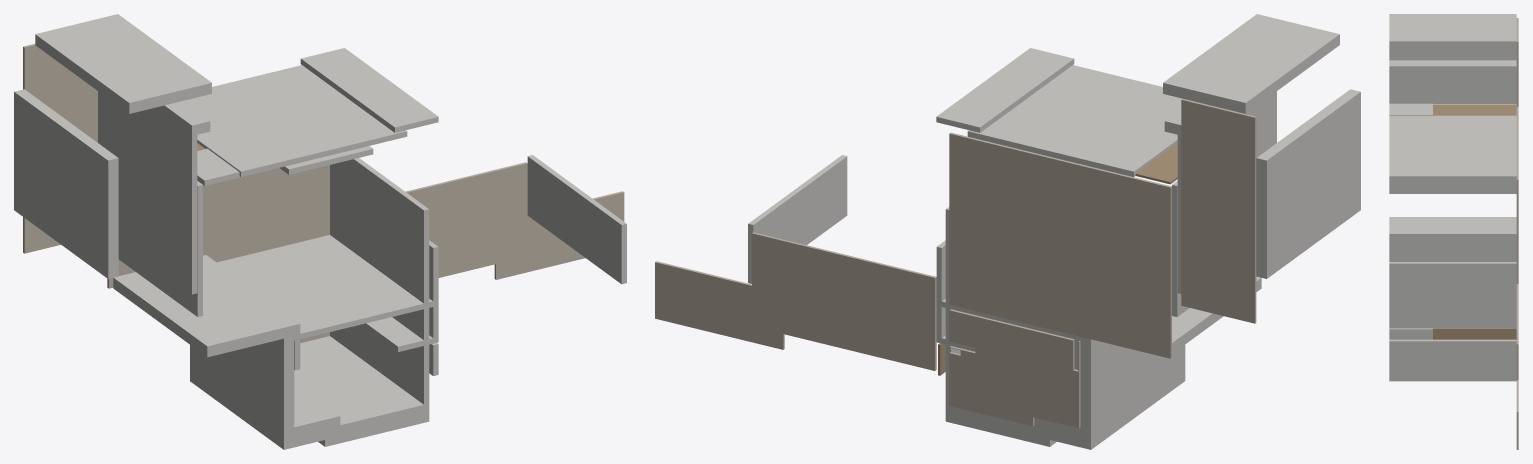
The model's file is plan.glb.
3 views of the same model, side by side, from view 1: azimuth 30°, elevation 25°; view 2: azimuth 150°, elevation 25°; view 3: azimuth 270°, elevation 25° (orthographic). The views are drawn at different scales.
Visible parts, largest first — view 1: walls, floor_Room_1, floor_Room_2, floor_Room_3, floor_Room_5; view 2: walls, floor_Room_1, floor_Room_2, floor_Room_3, floor_Room_4, floor_Room_5, doors; view 3: walls, doors, floor_Room_1, floor_Room_2, floor_Room_3, floor_Room_5.
Part boxes in pixels (x1,y1,x2,y2): walls: (14,14,626,449); floor_Room_1: (107,165,329,288); floor_Room_2: (405,162,527,277); floor_Room_3: (23,44,97,253); floor_Room_5: (494,191,624,279); walls: (748,14,1360,449); floor_Room_1: (949,132,1171,358); floor_Room_2: (752,232,936,370); floor_Room_3: (1181,99,1256,323); floor_Room_4: (949,309,1080,428); floor_Room_5: (655,261,784,349); doors: (938,143,1177,375); walls: (1389,14,1516,381); doors: (1433,104,1516,339); floor_Room_1: (1516,106,1518,283); floor_Room_2: (1516,284,1518,379); floor_Room_3: (1516,18,1518,106); floor_Room_5: (1516,380,1518,449).
Bounding box in the file's own units: 11.66 × 7.15 × 3.16.
